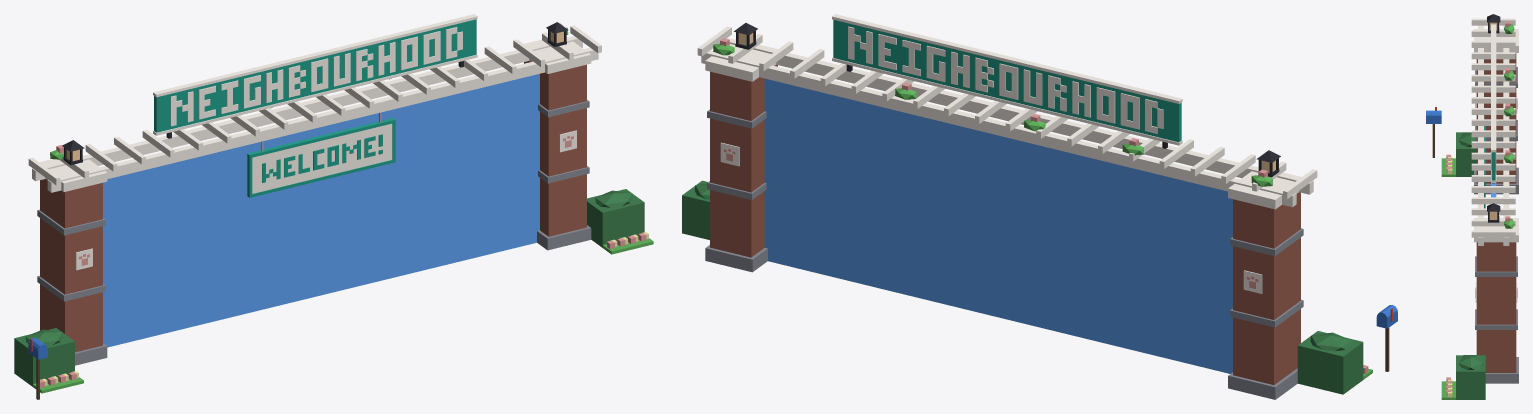
Rendered from CatCafe_Neighbourhood_Gate.fbx.
3 renders of one model, left to right at view 1: azimuth 30°, elevation 25°; view 2: azimuth 150°, elevation 25°; view 3: azimuth 270°, elevation 25°, orthographic. The views are drawn at different scales.
Visible parts, largest first — view 1: CatCafe_Neighbourhood_Gate_Bars, CatCafe_Neighbourhood_Gate, CatCafe_Neighbourhood_Gate_SignBoard, CatCafe_Neighbourhood_Gate_Flowers; view 2: CatCafe_Neighbourhood_Gate_Bars, CatCafe_Neighbourhood_Gate; view 3: CatCafe_Neighbourhood_Gate, CatCafe_Neighbourhood_Gate_Flowers, CatCafe_Neighbourhood_Gate_Lamp_Bulb.
Boxes of the visible parts, box(x1,y1,x2,y2) form: CatCafe_Neighbourhood_Gate_Bars: box(103, 73, 539, 347); CatCafe_Neighbourhood_Gate: box(14, 14, 644, 399); CatCafe_Neighbourhood_Gate_SignBoard: box(252, 123, 392, 193); CatCafe_Neighbourhood_Gate_Flowers: box(33, 23, 653, 393); CatCafe_Neighbourhood_Gate_Bars: box(764, 78, 1232, 373); CatCafe_Neighbourhood_Gate: box(682, 14, 1397, 399); CatCafe_Neighbourhood_Gate: box(1426, 14, 1518, 399); CatCafe_Neighbourhood_Gate_Flowers: box(1441, 21, 1510, 399); CatCafe_Neighbourhood_Gate_Lamp_Bulb: box(1489, 22, 1497, 219).
Bounding box in the file's own units: 44.62 × 16.4 × 7.15.
Materials: 1 (1 with a texture image).
